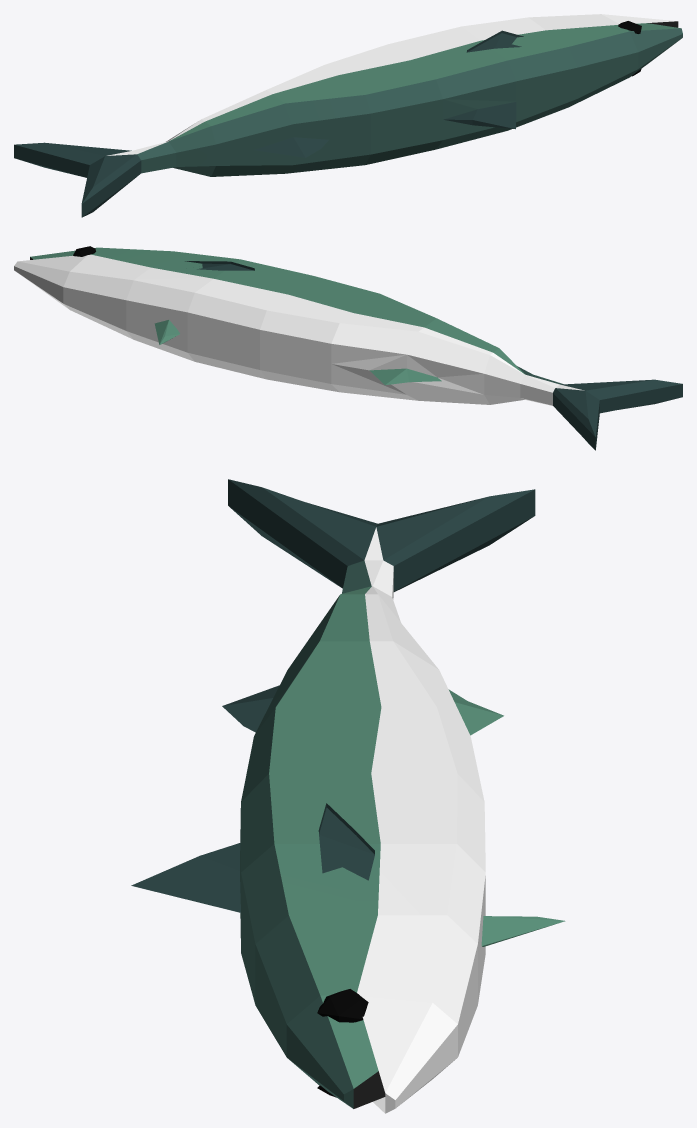
File: Mackerel.glb
3 renders of one model, top to bottom at view 1: azimuth 30°, elevation 25°; view 2: azimuth 150°, elevation 25°; view 3: azimuth 270°, elevation 25°, orthographic. The views are drawn at different scales.
Parts seen in each view (by area): view 1: Mackerel; view 2: Mackerel; view 3: Mackerel.
Part boxes in pixels (bbox=[...]): Mackerel: bbox=[14, 14, 682, 217]; Mackerel: bbox=[14, 246, 682, 450]; Mackerel: bbox=[131, 479, 565, 1113].
Bounding box in the file's own units: 0.7587 × 0.0966 × 0.228.
Materials: 1 (1 with a texture image).
